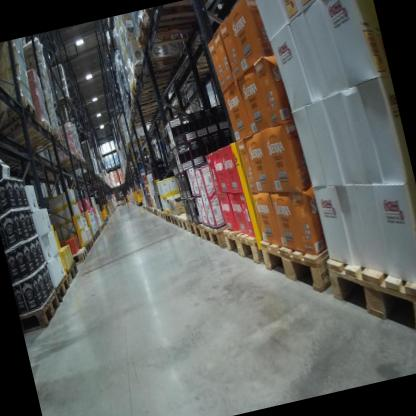pallet: (320, 219, 416, 368), (258, 217, 355, 302), (128, 0, 210, 54), (220, 216, 270, 276), (129, 49, 188, 89), (16, 288, 66, 335), (0, 97, 39, 146), (179, 51, 221, 84), (199, 216, 232, 255), (12, 121, 56, 150), (129, 72, 172, 101), (128, 83, 170, 111), (27, 126, 66, 153), (50, 270, 78, 307), (127, 99, 167, 119), (175, 205, 203, 233), (127, 106, 166, 125), (127, 113, 166, 130), (185, 216, 206, 246), (57, 152, 82, 173), (66, 259, 83, 286), (68, 247, 90, 267), (125, 135, 149, 149), (53, 94, 73, 108), (168, 211, 181, 232), (161, 208, 174, 227), (82, 241, 93, 256), (155, 206, 163, 220), (87, 238, 95, 251), (90, 232, 97, 245), (159, 210, 167, 220), (95, 232, 100, 241)
pallet_truck: (114, 181, 126, 207)
